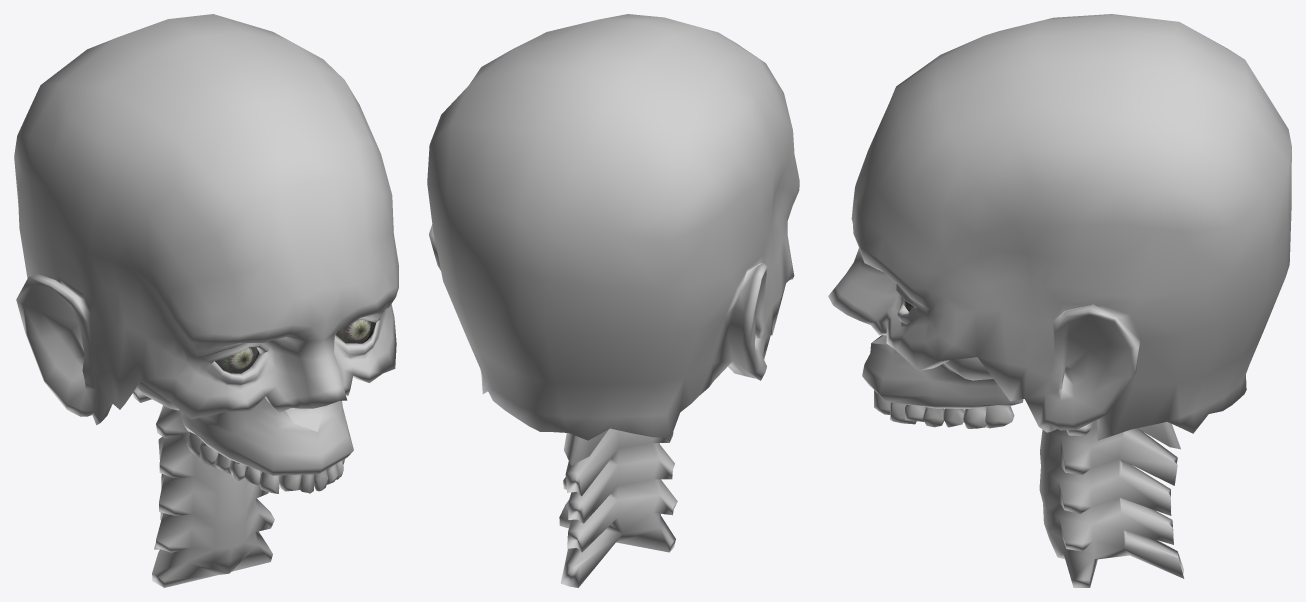
The model's file is Head_03_01.fbx.
3 renders of one model, left to right at view 1: azimuth 30°, elevation 25°; view 2: azimuth 150°, elevation 25°; view 3: azimuth 270°, elevation 25°, orthographic. The views are drawn at different scales.
Visible parts, largest first — view 1: Head_03_01; view 2: Head_03_01; view 3: Head_03_01.
Boxes of the visible parts, bbox=[...] form: Head_03_01: bbox=[14, 14, 398, 587]; Head_03_01: bbox=[427, 14, 799, 587]; Head_03_01: bbox=[828, 14, 1291, 587].
Size of the model in its own units: 17.79 by 27.16 by 20.99.
